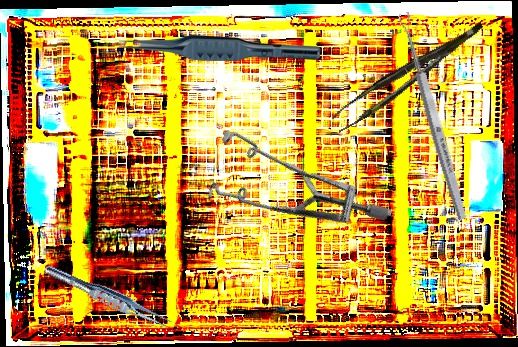Speculum: (182, 81, 394, 299)
Surgical Spoon: (396, 11, 470, 221)
Tissue Forceps: (325, 22, 495, 133), (40, 261, 178, 334), (119, 34, 320, 61)
